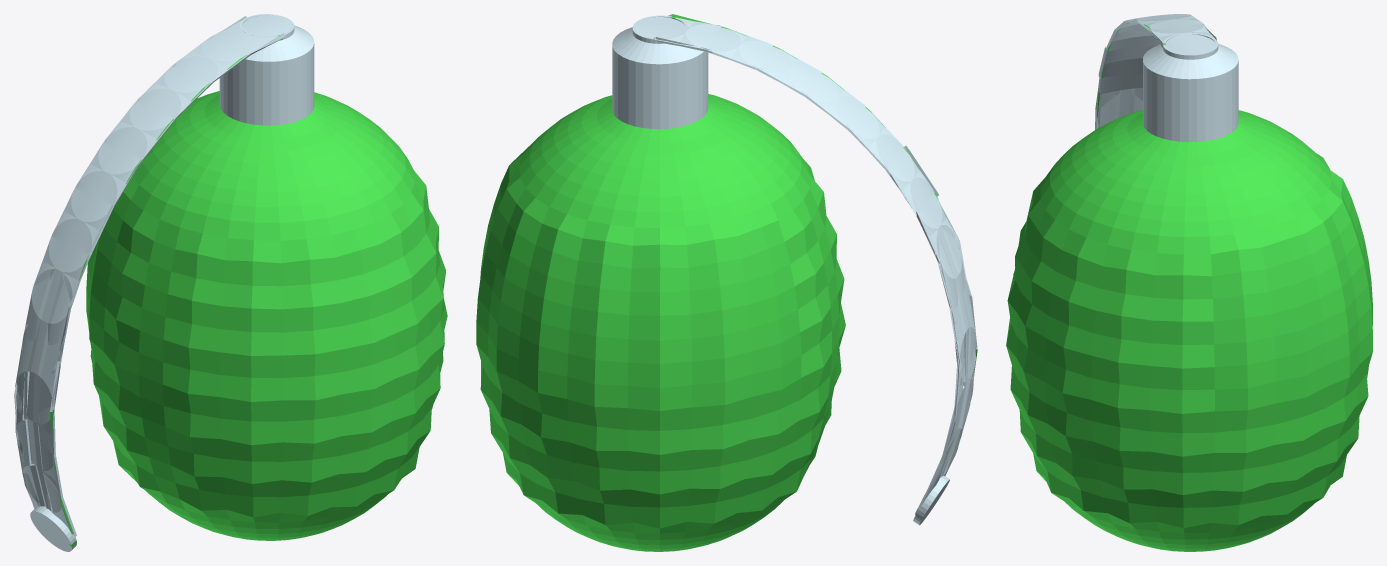
Rendered from Grenade.fbx.
The picture shows the model from 3 angles, left to right: view 1: azimuth 30°, elevation 25°; view 2: azimuth 150°, elevation 25°; view 3: azimuth 270°, elevation 25°; orthographic projection. The views are drawn at different scales.
Parts seen in each view (by area): view 1: Sphere.002; view 2: Sphere.002; view 3: Sphere.002.
Boxes of the visible parts, <box> form: Sphere.002: <box>14,14,447,551</box>; Sphere.002: <box>476,14,977,551</box>; Sphere.002: <box>1006,14,1372,551</box>.
Size of the model in its own units: 183 by 203 by 136.
